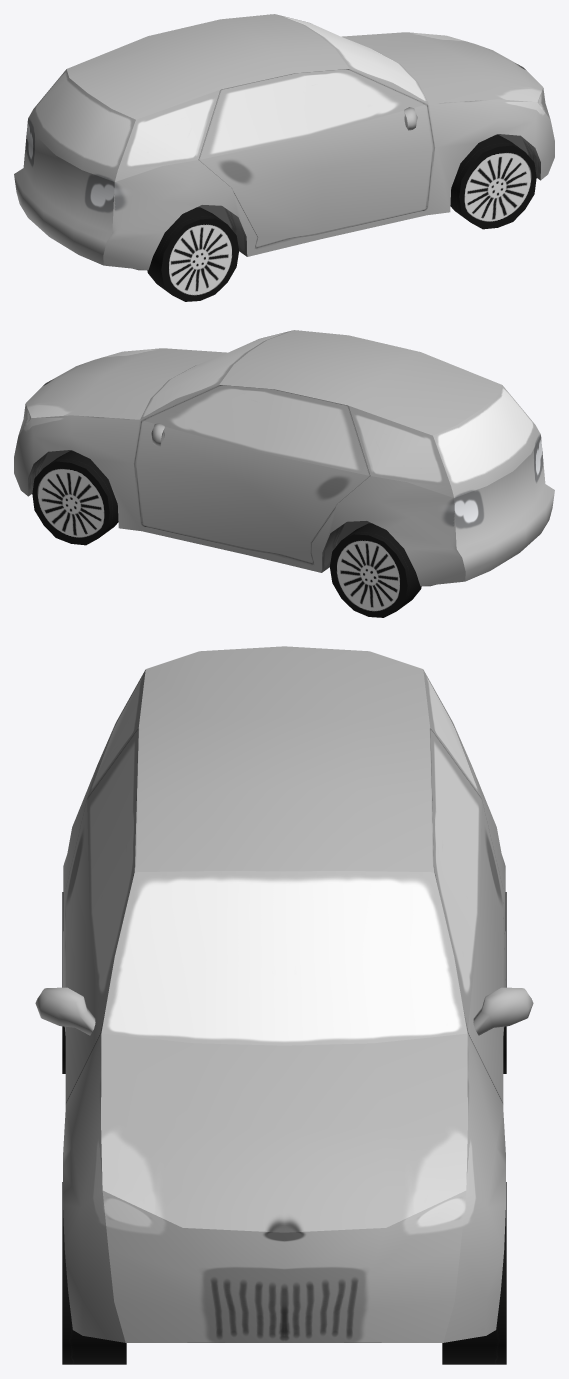
File: SUV.fbx
3 renders of one model, top to bottom at view 1: azimuth 30°, elevation 25°; view 2: azimuth 150°, elevation 25°; view 3: azimuth 270°, elevation 25°, orthographic. The views are drawn at different scales.
Visible parts, largest first — view 1: Car_SUV #lod0; view 2: Car_SUV #lod0; view 3: Car_SUV #lod0.
Part boxes in pixels (x1,y1,x2,y2): Car_SUV #lod0: (14,14,554,301); Car_SUV #lod0: (14,330,554,617); Car_SUV #lod0: (35,646,533,1364).
Bounding box in the file's own units: 477 × 212 × 181.
